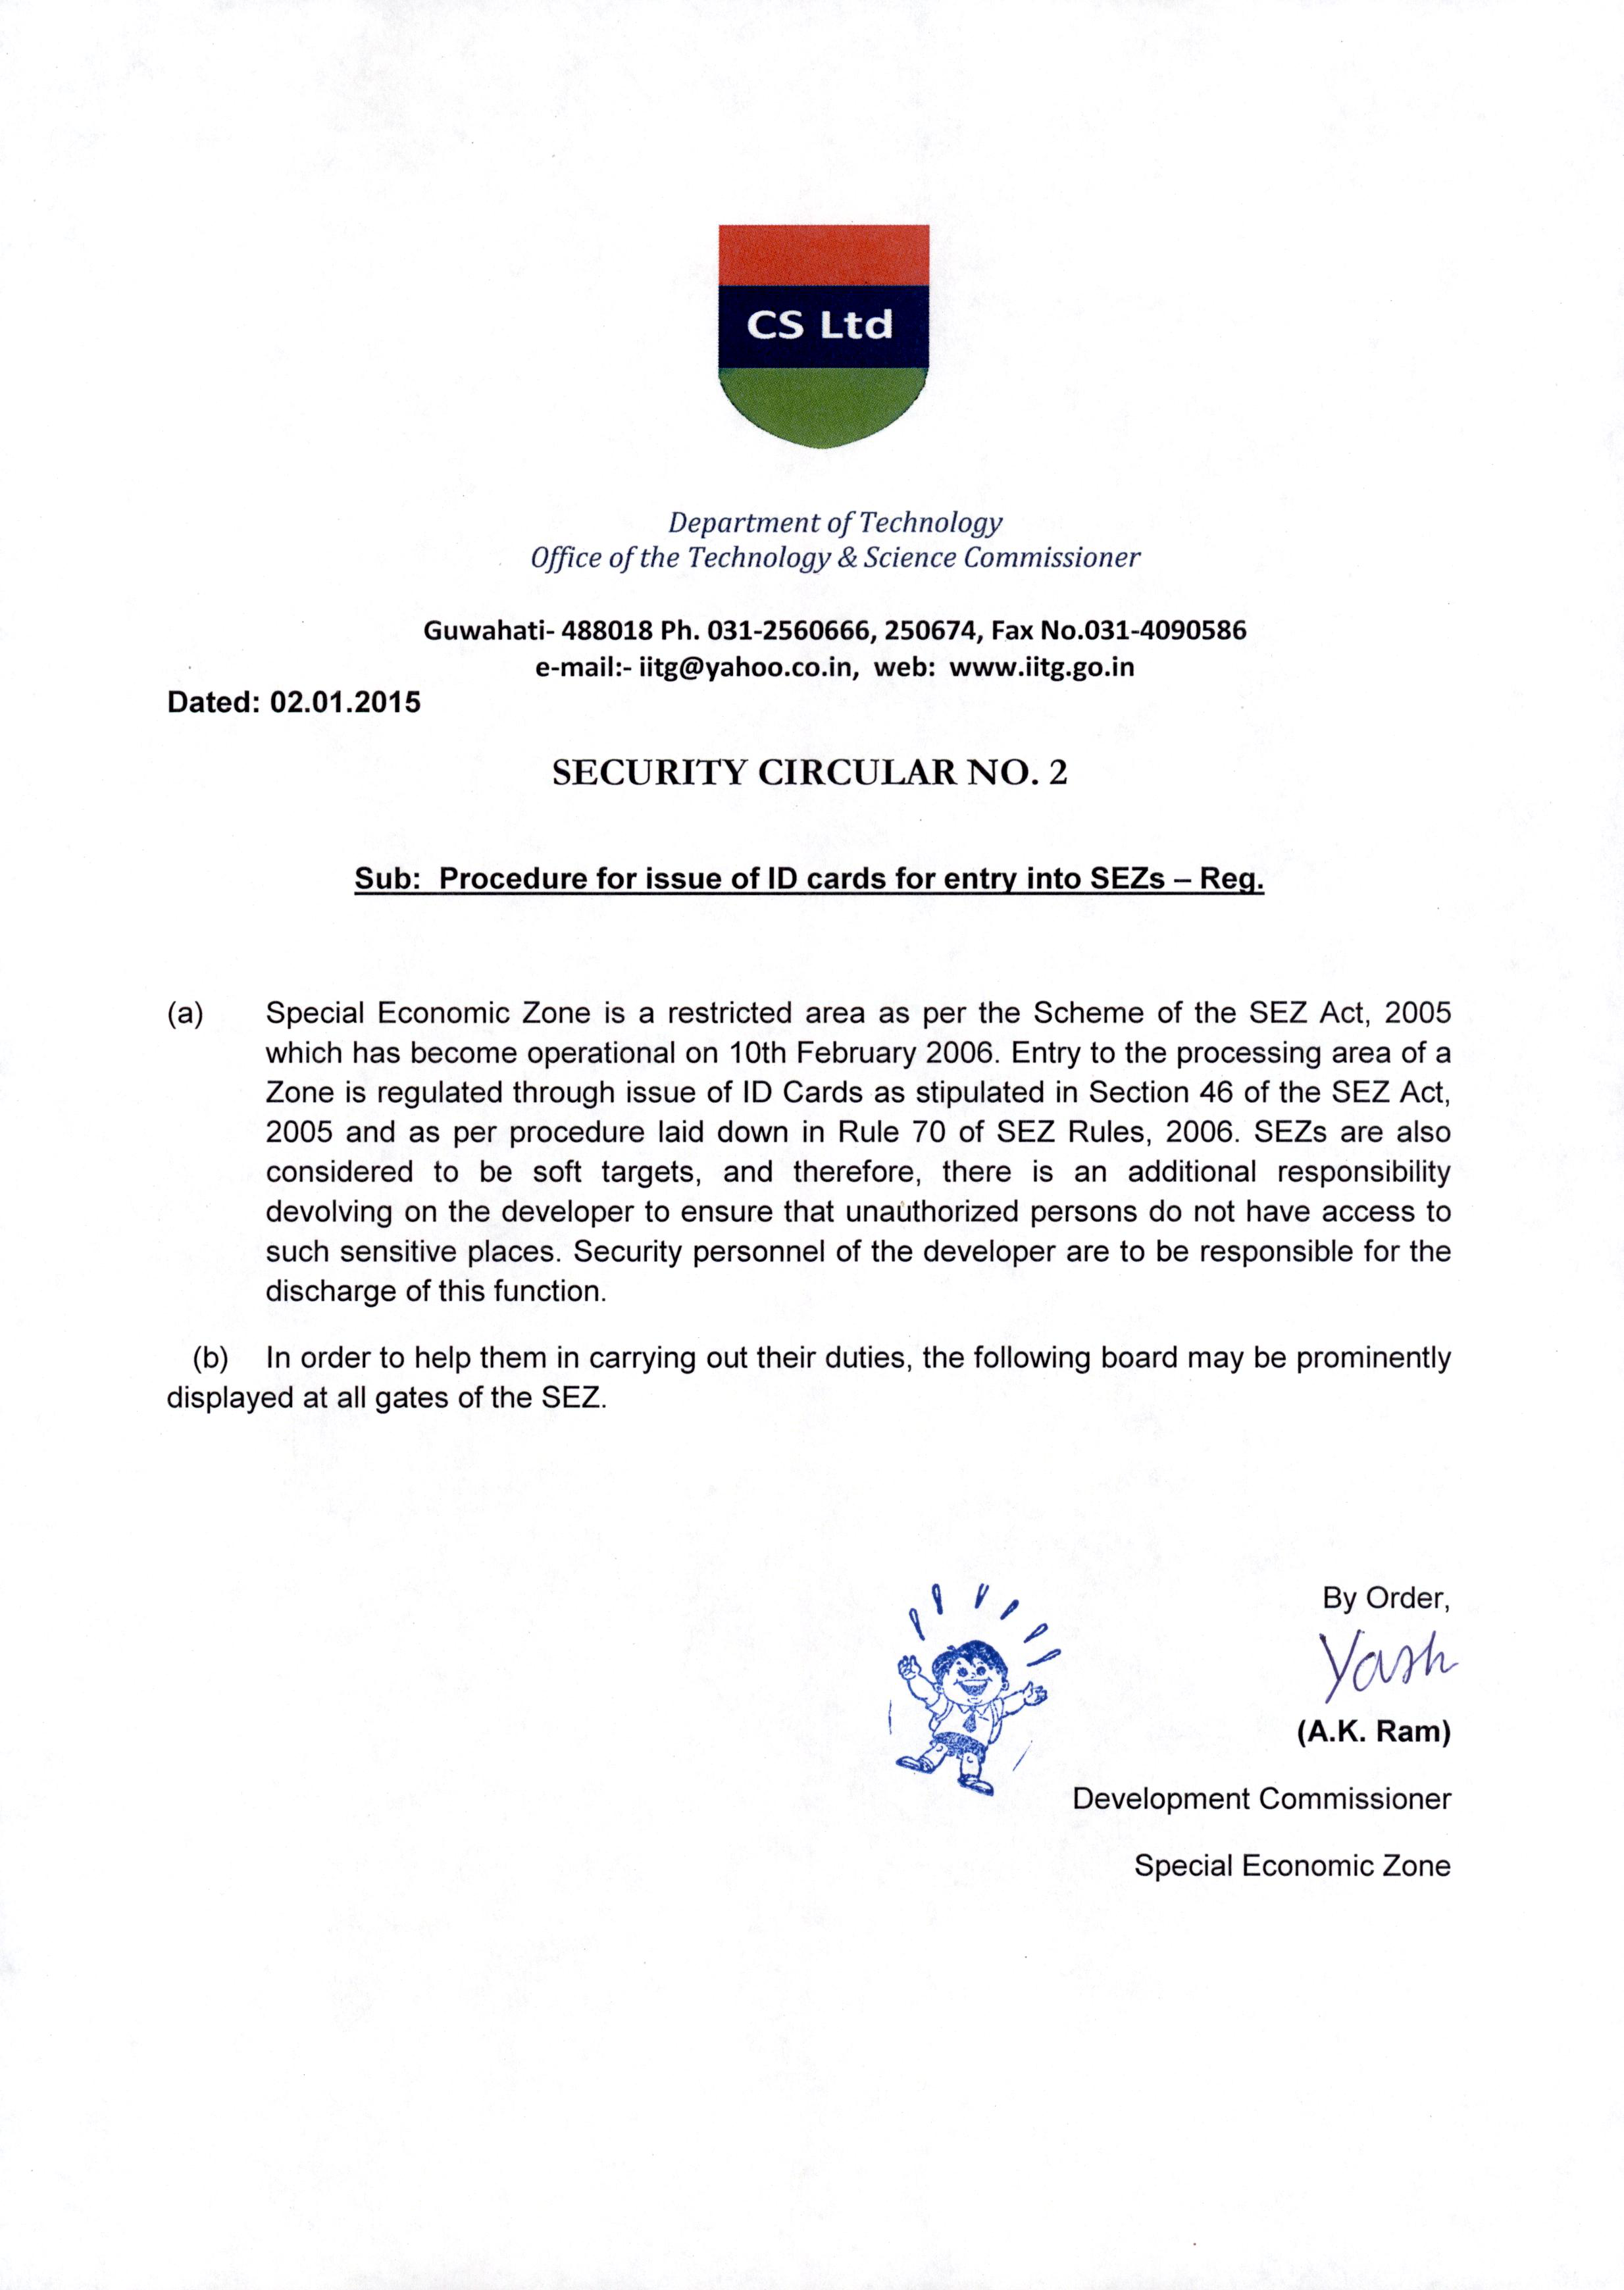Signature: (1309, 1615, 1464, 1712)
